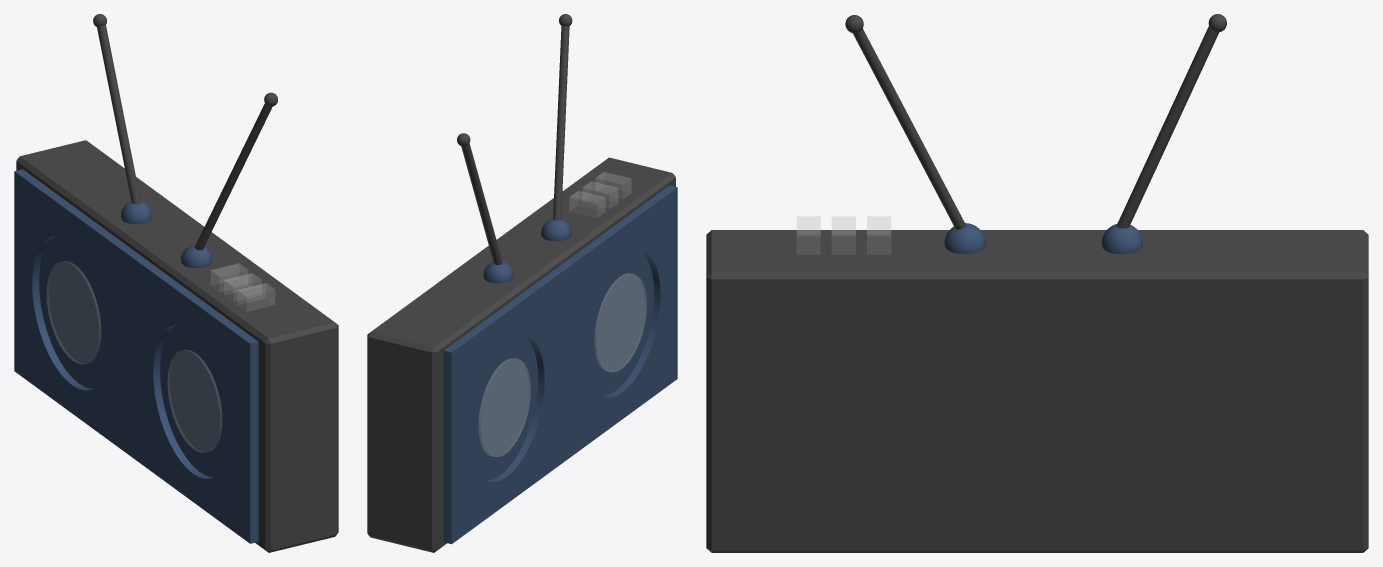
The model's file is radio.fbx.
3 views of the same model, side by side, from view 1: azimuth 30°, elevation 25°; view 2: azimuth 150°, elevation 25°; view 3: azimuth 270°, elevation 25° (orthographic). The views are drawn at different scales.
Visible parts, largest first — view 1: pCube13, pCube11, pCylinder5, pCylinder6, pCylinder2, pCylinder1, pCube16, pCube15, pCube14, pSphere3, pSphere4; view 2: pCube13, pCube11, pCylinder6, pCylinder5, pCylinder1, pCylinder2, pCube14, pCube16, pCube15, pSphere4, pSphere3; view 3: pCube11, pCylinder2, pCylinder1, pSphere4, pSphere3, pCube14, pCube15, pCube16.
Boxes of the visible parts, <box> form: pCube13: <box>14,169,258,543</box>; pCube11: <box>16,140,338,552</box>; pCylinder5: <box>167,350,221,452</box>; pCylinder6: <box>46,261,100,363</box>; pCylinder2: <box>97,25,140,204</box>; pCylinder1: <box>194,103,272,250</box>; pCube16: <box>237,283,274,311</box>; pCube15: <box>224,273,261,301</box>; pCube14: <box>211,263,247,291</box>; pSphere3: <box>120,201,152,224</box>; pSphere4: <box>181,244,212,268</box>; pCube13: <box>443,185,677,544</box>; pCube11: <box>367,157,675,552</box>; pCylinder6: <box>478,358,530,456</box>; pCylinder5: <box>594,273,646,371</box>; pCylinder1: <box>553,26,569,220</box>; pCylinder2: <box>461,143,502,264</box>; pCube14: <box>569,191,605,217</box>; pCube16: <box>595,172,631,198</box>; pCube15: <box>582,181,618,208</box>; pSphere4: <box>541,219,571,241</box>; pSphere3: <box>483,261,513,283</box>; pCube11: <box>706,230,1368,552</box>; pCylinder2: <box>1116,26,1218,228</box>; pCylinder1: <box>853,28,965,229</box>; pSphere4: <box>944,223,985,254</box>; pSphere3: <box>1101,224,1142,254</box>; pCube14: <box>867,216,890,253</box>; pCube15: <box>832,216,855,253</box>; pCube16: <box>797,216,820,253</box>.
Bounding box in the file's own units: 0.703 × 3.33 × 3.77.
